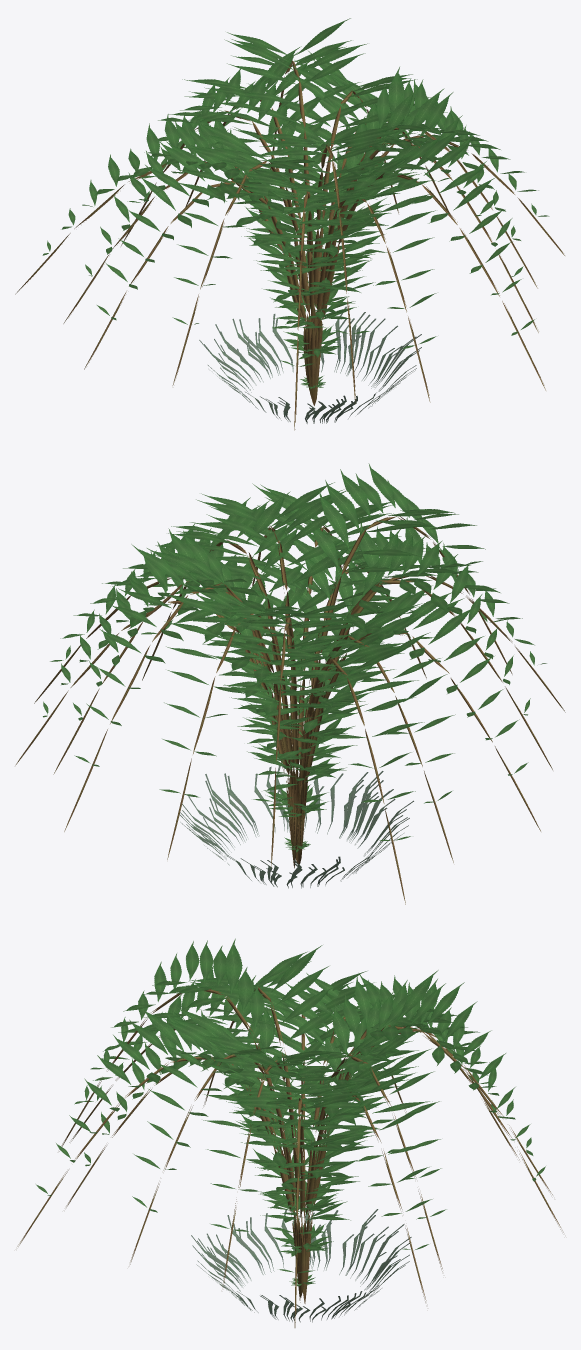
Rendered from FERN_03_Young_Fronds.glb.
3 renders of one model, top to bottom at view 1: azimuth 30°, elevation 25°; view 2: azimuth 150°, elevation 25°; view 3: azimuth 270°, elevation 25°, orthographic. The views are drawn at different scales.
Parts seen in each view (by area): view 1: FERN_03_Young_Fronds__FoliageCards, FERN_03_Young_Fronds__WoodyStems; view 2: FERN_03_Young_Fronds__FoliageCards, FERN_03_Young_Fronds__WoodyStems; view 3: FERN_03_Young_Fronds__FoliageCards, FERN_03_Young_Fronds__WoodyStems.
Part boxes in pixels (<box>): FERN_03_Young_Fronds__FoliageCards: <box>42,18,549,423</box>; FERN_03_Young_Fronds__WoodyStems: <box>15,60,564,430</box>; FERN_03_Young_Fronds__FoliageCards: <box>43,463,546,888</box>; FERN_03_Young_Fronds__WoodyStems: <box>15,516,565,904</box>; FERN_03_Young_Fronds__FoliageCards: <box>36,938,545,1322</box>; FERN_03_Young_Fronds__WoodyStems: <box>17,986,563,1327</box>.
Size of the model in its own units: 0.7387 by 0.479 by 0.7337.
1 material, 1 textured.
